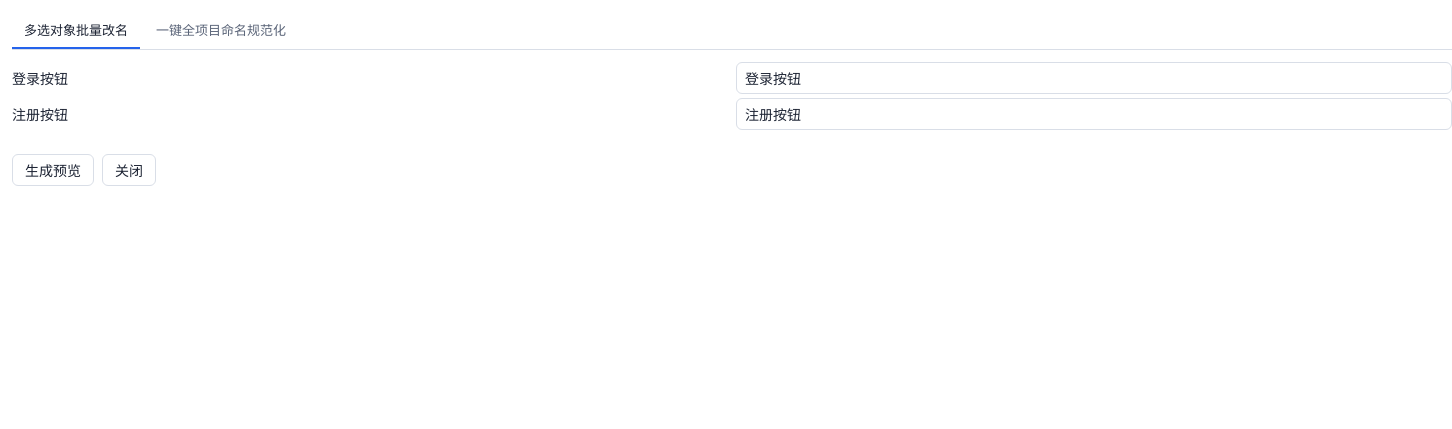
Test: BatchRenameDialog › 冲突对象（blocked 非空）时禁用确认执行
// reg-1 命名为 reg-2 的规范名 → 与现有投影冲突
Replace the text in the field named "登录按钮 的新名称" with "注册按钮" at (1094,78), box [745,63,1443,93]
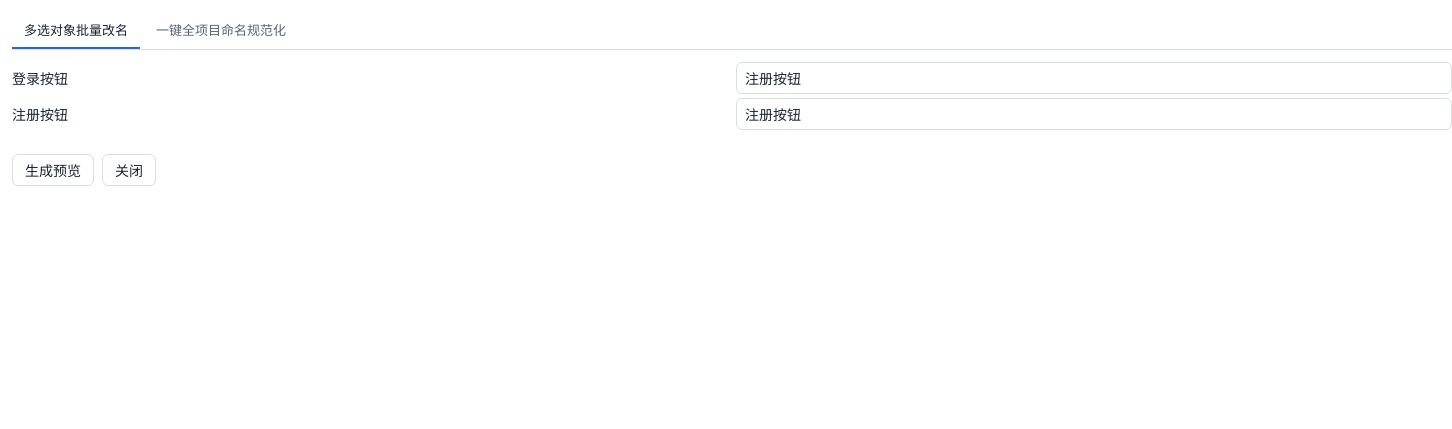
Click the button with test id "batch-plan" at (53,170), box [12,154,94,186]
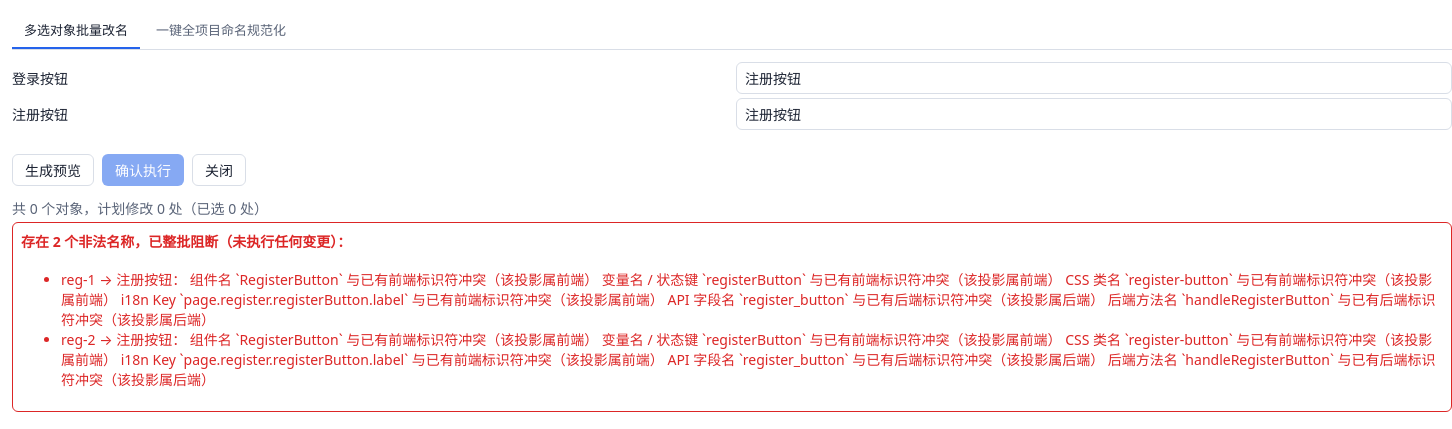
Expected: the element with test id "batch-blocked" is shown, [12,222,1451,412]
Expected: the button with test id "batch-execute" is disabled, [102,154,184,186]
